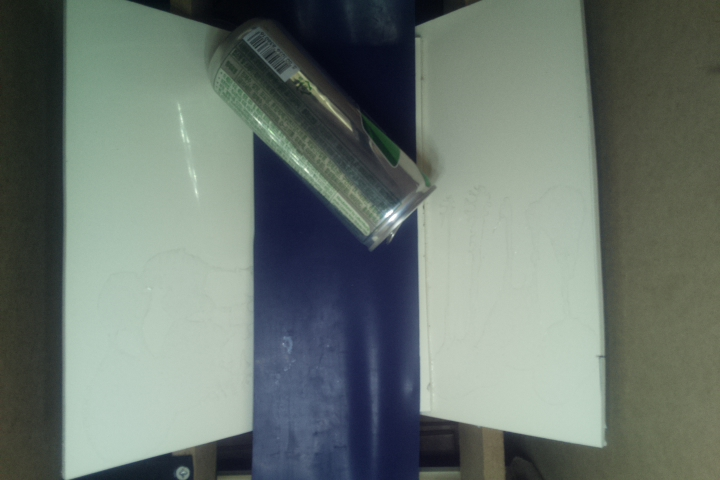can: (203, 20, 436, 254)
